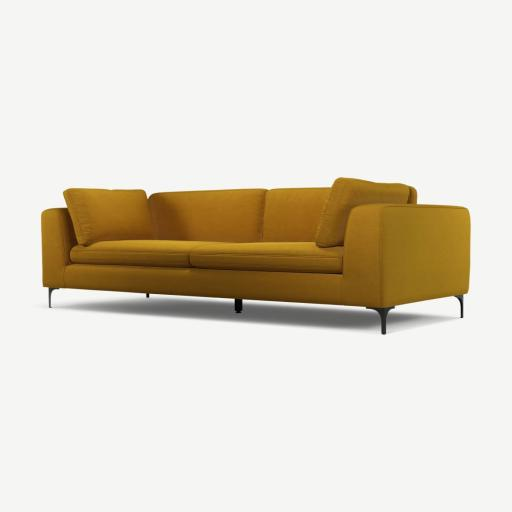back_cushion: (63, 178, 416, 247)
base: (57, 264, 379, 305), (392, 284, 461, 305)
left_arm: (341, 204, 470, 306)
legs: (367, 306, 395, 334), (48, 288, 59, 307), (455, 295, 463, 317), (235, 299, 242, 313)
right_arm: (42, 208, 76, 288)
seat_cushion: (71, 240, 343, 274)
two-seater: (0, 0, 511, 512)
